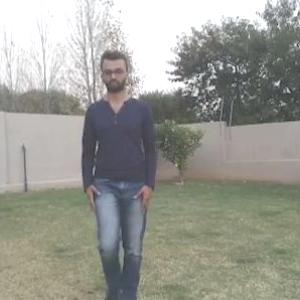follow: (83, 42, 157, 299)
